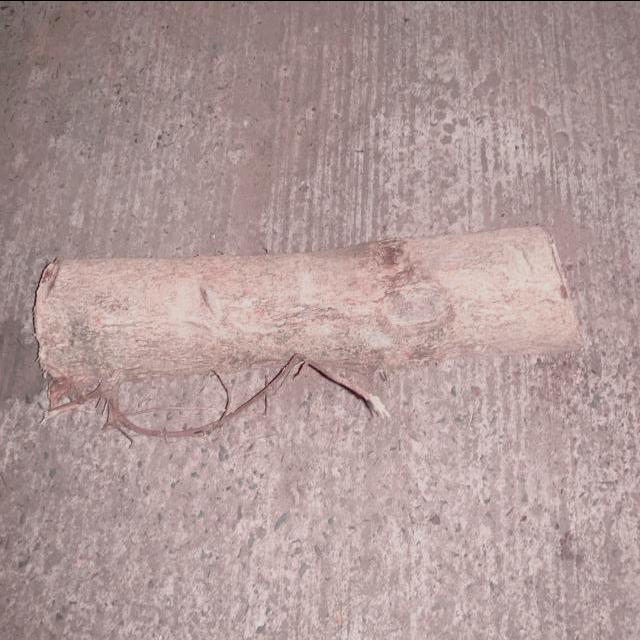Infectious: (30, 224, 581, 445)
